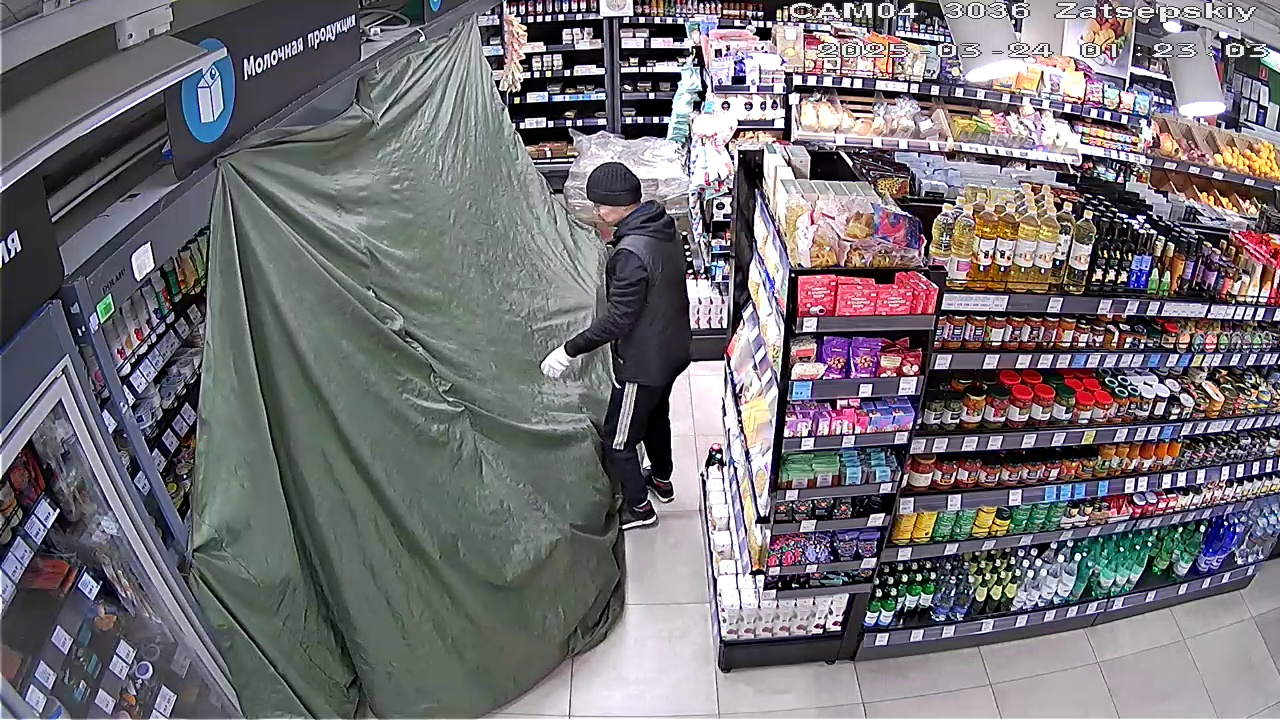Human: (526, 153, 707, 526)
dome: (203, 26, 616, 711)
pallet: (569, 135, 689, 244)
